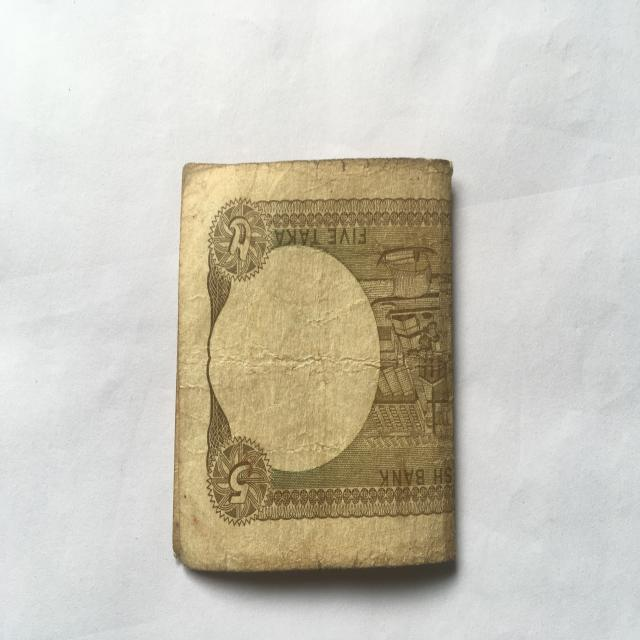Taka: (170, 148, 460, 574)
